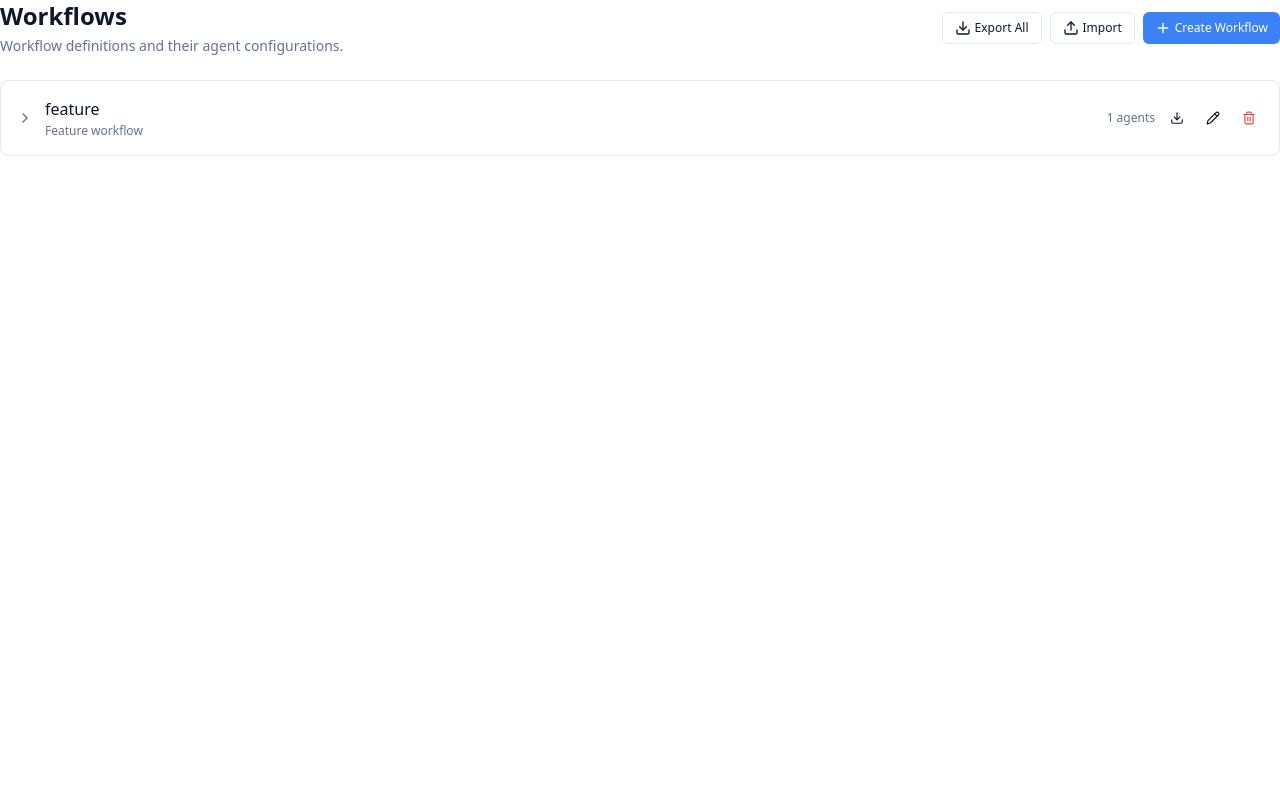
Scenario: WorkflowsPage – DialogFooter buttons › Edit dialog › shows Saving... and disables submit button while update is pending
Click the button titled "Edit workflow" at (1213, 118), box [1199, 104, 1227, 132]
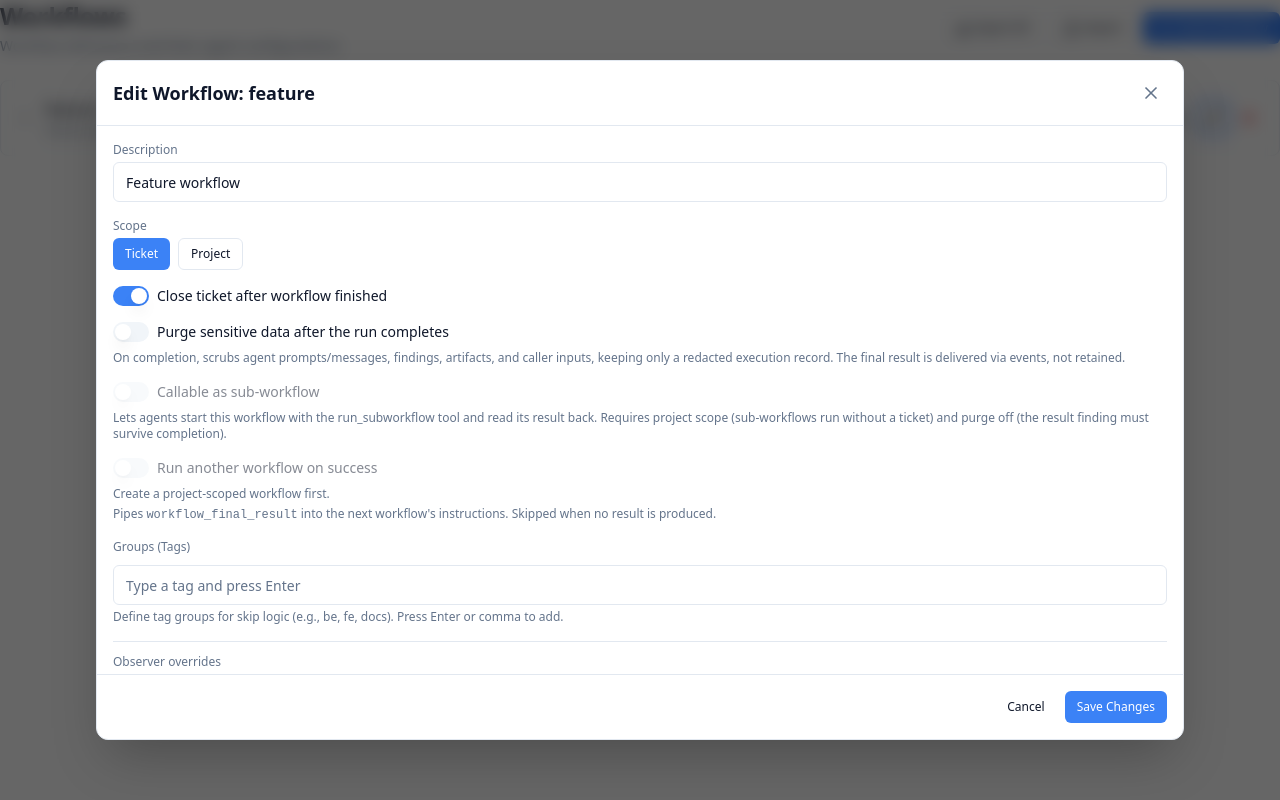
Now the heading "Edit Workflow: feature" is shown, box [113, 81, 315, 105]
Click the button "Save Changes" at (1116, 707), box [1065, 691, 1167, 723]
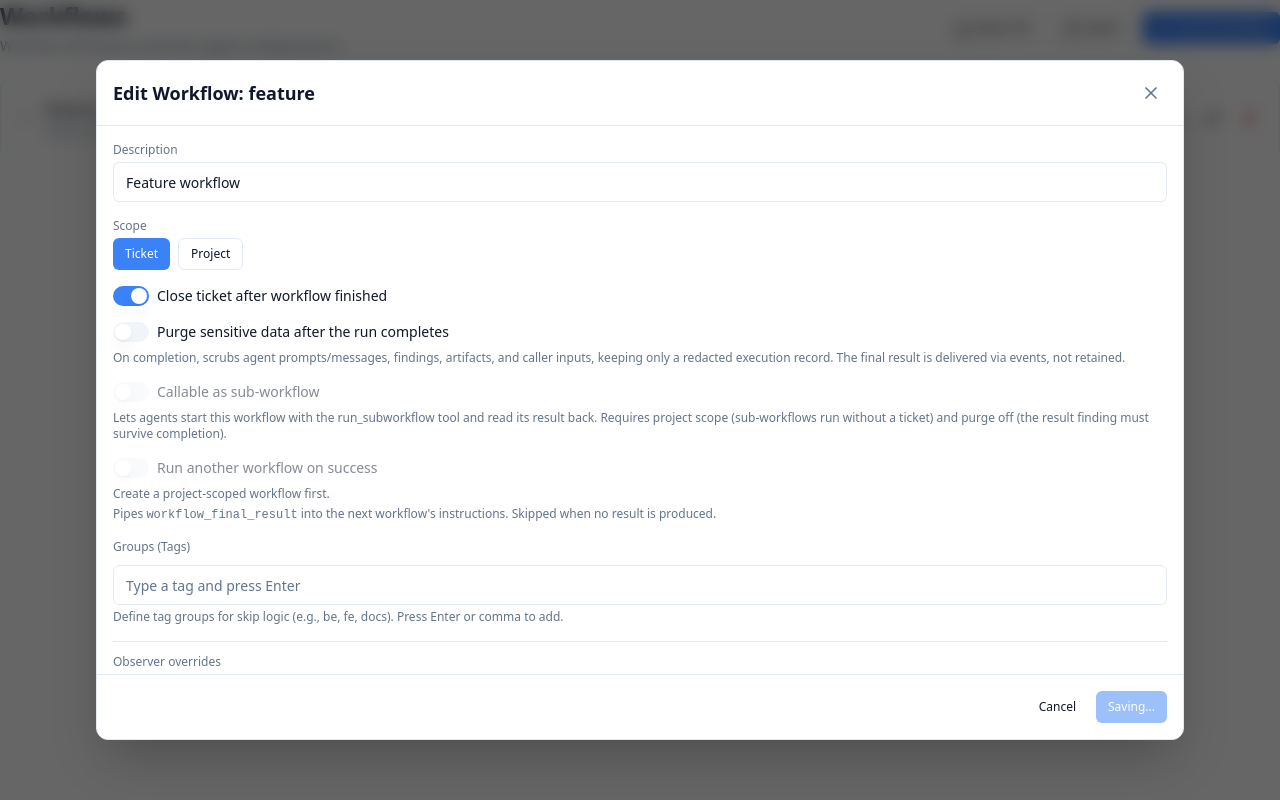
Now the button "Saving..." is disabled, box [1096, 691, 1167, 723]
